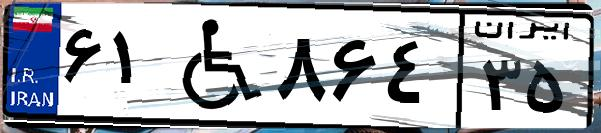1: (110, 28, 158, 98)
3: (475, 38, 525, 113)
4: (385, 28, 445, 110)
5: (525, 38, 570, 115)
6: (330, 28, 385, 110), (57, 26, 110, 100)
8: (270, 28, 330, 110)
ژ (معلولین و جانبازان): (158, 12, 270, 120)
